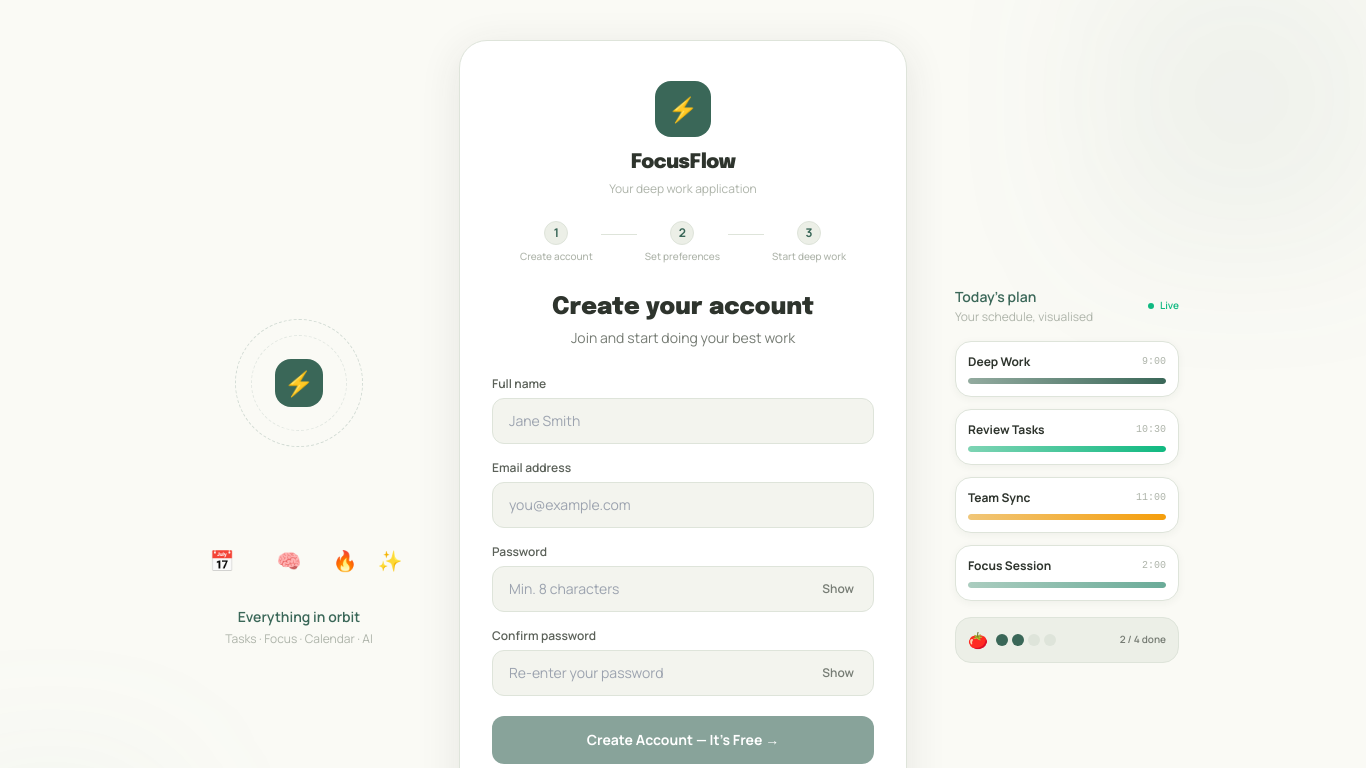
Scenario: RegisterPage – PasswordStrength rule indicators › length rule shows ✓ when password has 8+ characters
The image size is (1366, 768).
Type "abcdefgh" into the password field labelled "Password".
click(683, 589); type("abcdefgh")  # box [492,566,874,612]
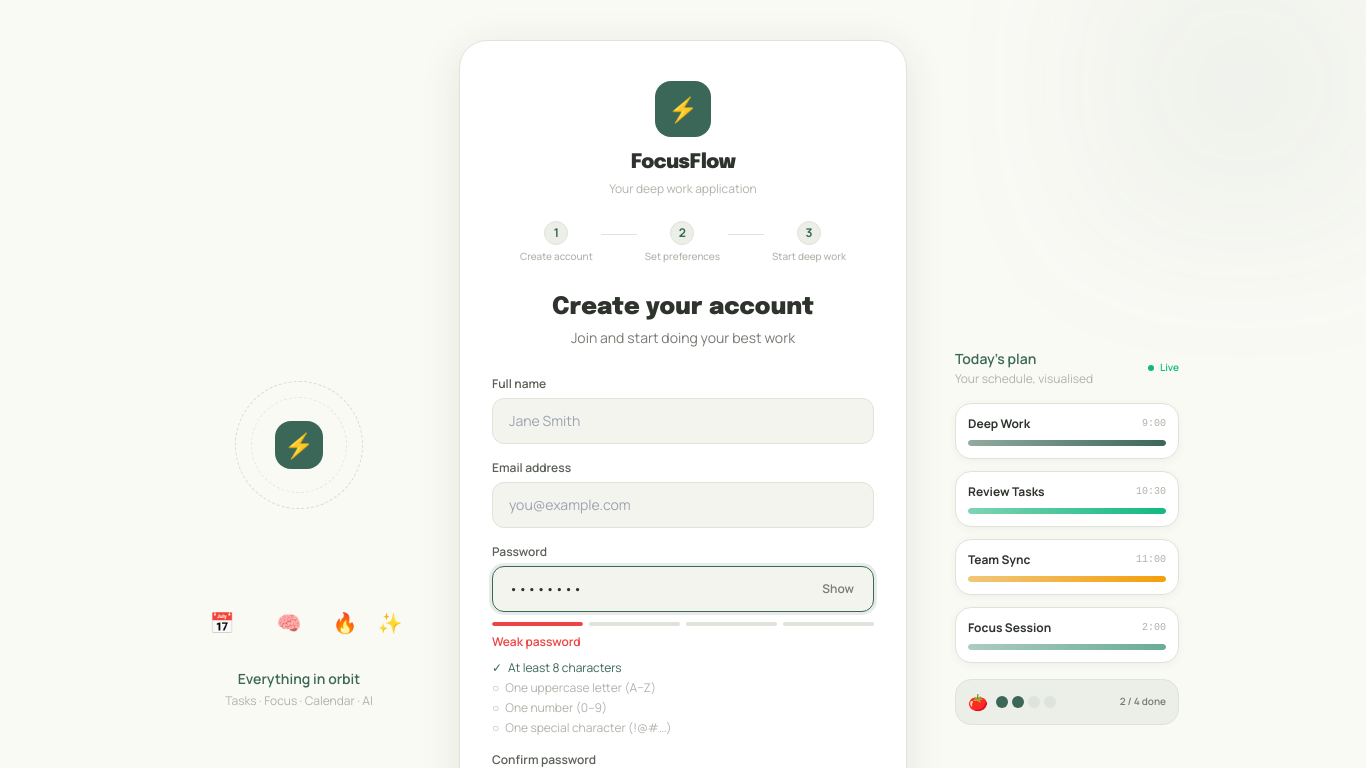
Result: the text "✓" is shown at [492,660,502,676]
